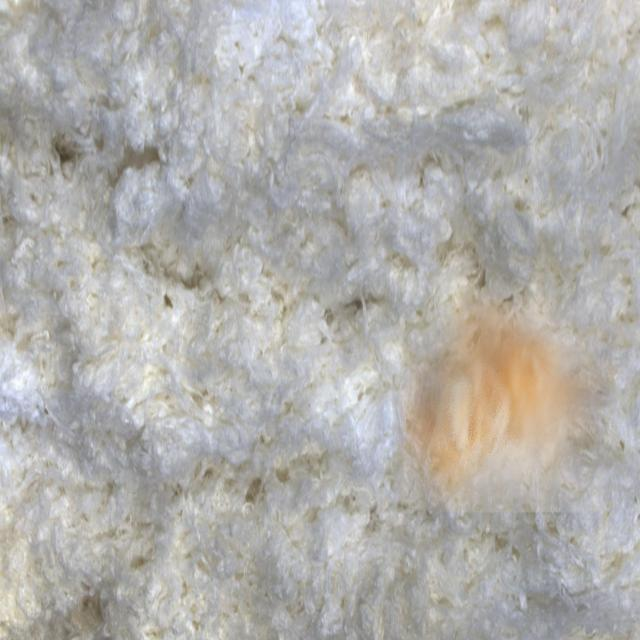dust: (393, 264, 617, 512)
